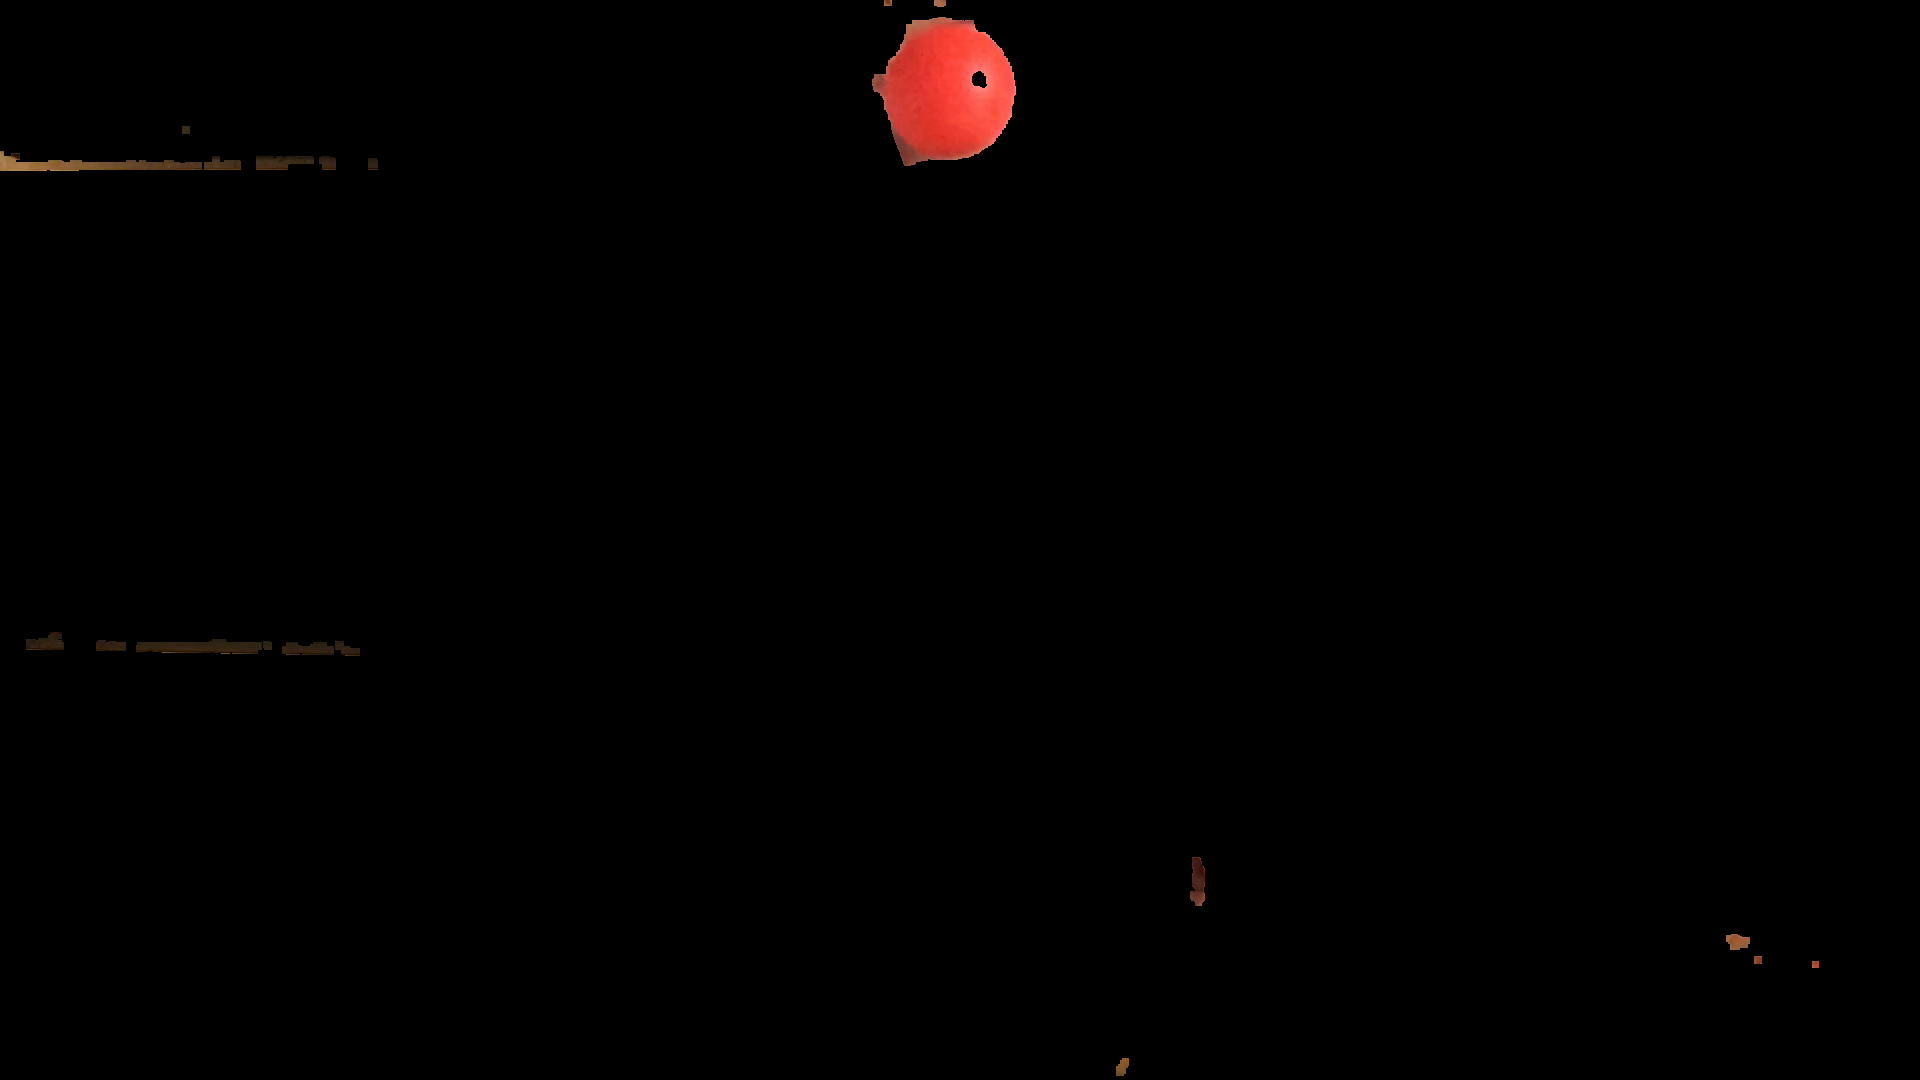Ball: (884, 17, 1030, 164)
